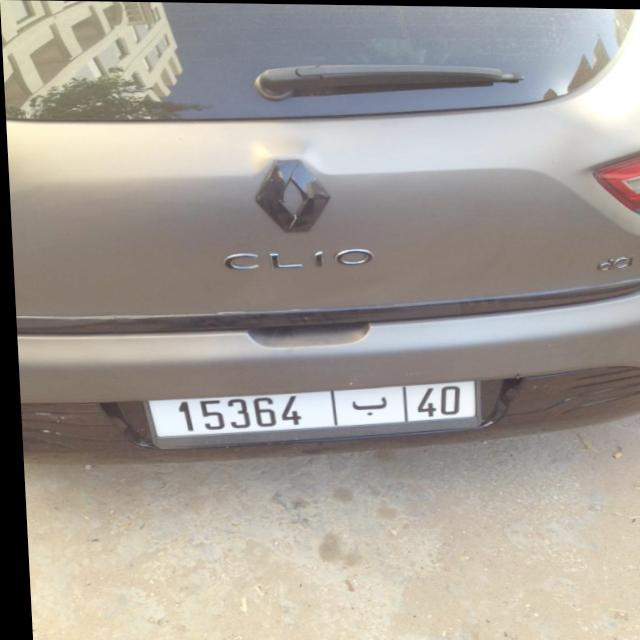License-Plate: (143, 380, 474, 446)
